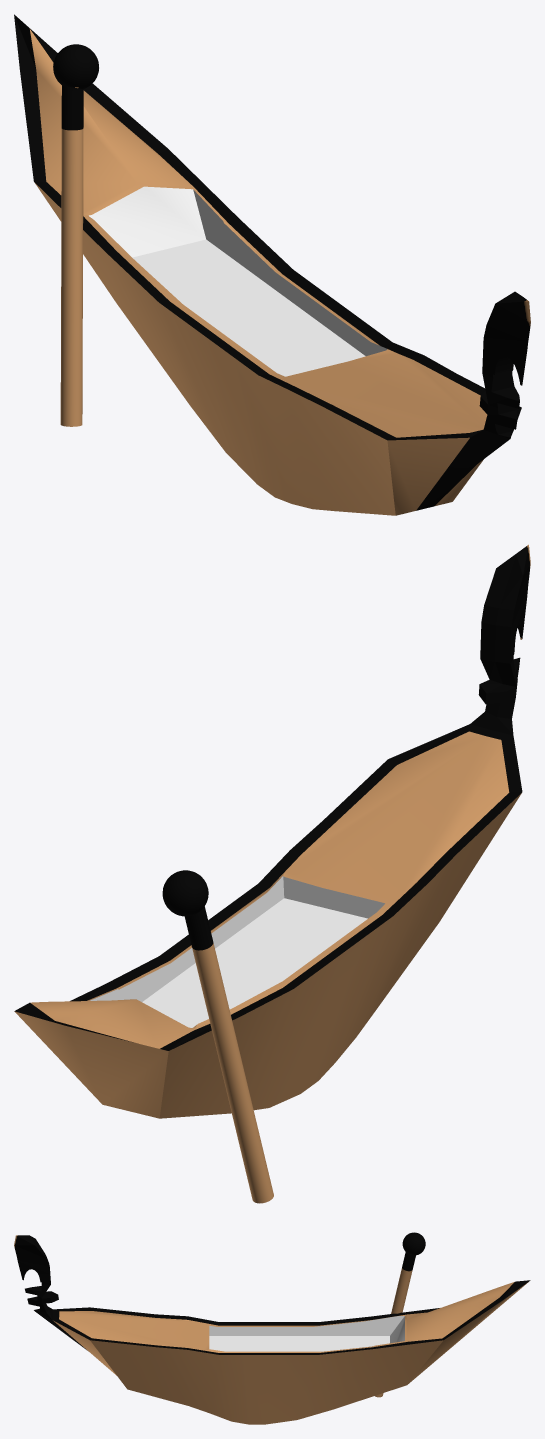
File: Gondola.FBX
The picture shows the model from 3 angles, top to bottom: view 1: azimuth 30°, elevation 25°; view 2: azimuth 150°, elevation 25°; view 3: azimuth 270°, elevation 25°; orthographic projection. The views are drawn at different scales.
Parts seen in each view (by area): view 1: Box001, Cylinder001, Sphere001; view 2: Box001, Cylinder001, Sphere001; view 3: Box001, Cylinder001, Sphere001.
Boxes of the visible parts, x1=… form: Box001: x1=14, y1=14, x2=530, y2=515; Cylinder001: x1=60, y1=85, x2=83, y2=426; Sphere001: x1=53, y1=44, x2=98, y2=88; Box001: x1=14, y1=544, x2=530, y2=1118; Cylinder001: x1=184, y1=906, x2=273, y2=1203; Sphere001: x1=162, y1=870, x2=208, y2=916; Box001: x1=14, y1=1235, x2=530, y2=1424; Cylinder001: x1=375, y1=1252, x2=415, y2=1397; Sphere001: x1=402, y1=1232, x2=425, y2=1255.
Bounding box in the file's own units: 35.85 × 72.93 × 186.
Materials: 1 (1 with a texture image).
